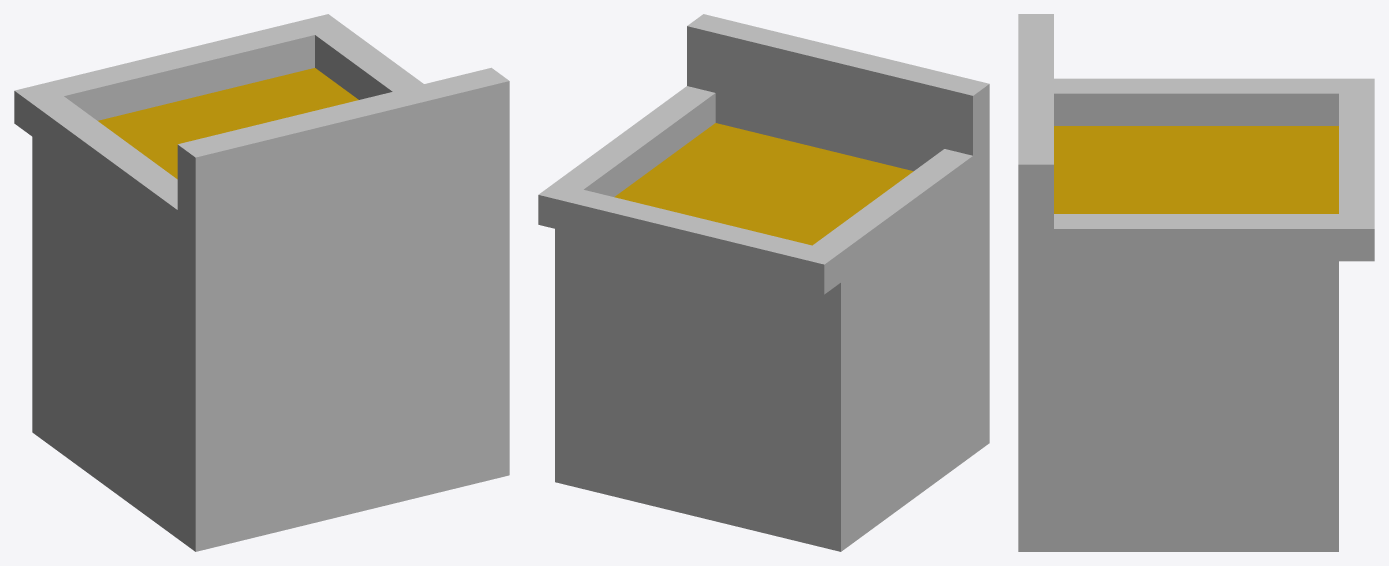
The model's file is Fryer.obj.
3 renders of one model, left to right at view 1: azimuth 30°, elevation 25°; view 2: azimuth 150°, elevation 25°; view 3: azimuth 270°, elevation 25°, orthographic. The views are drawn at different scales.
Visible parts, largest first — view 1: Cube; view 2: Cube; view 3: Cube.
Part boxes in pixels (x1=…): Cube: x1=14, y1=14, x2=509, y2=551; Cube: x1=538, y1=14, x2=989, y2=551; Cube: x1=1018, y1=14, x2=1374, y2=551.
Size of the model in its own units: 2 by 2.4 by 2.
